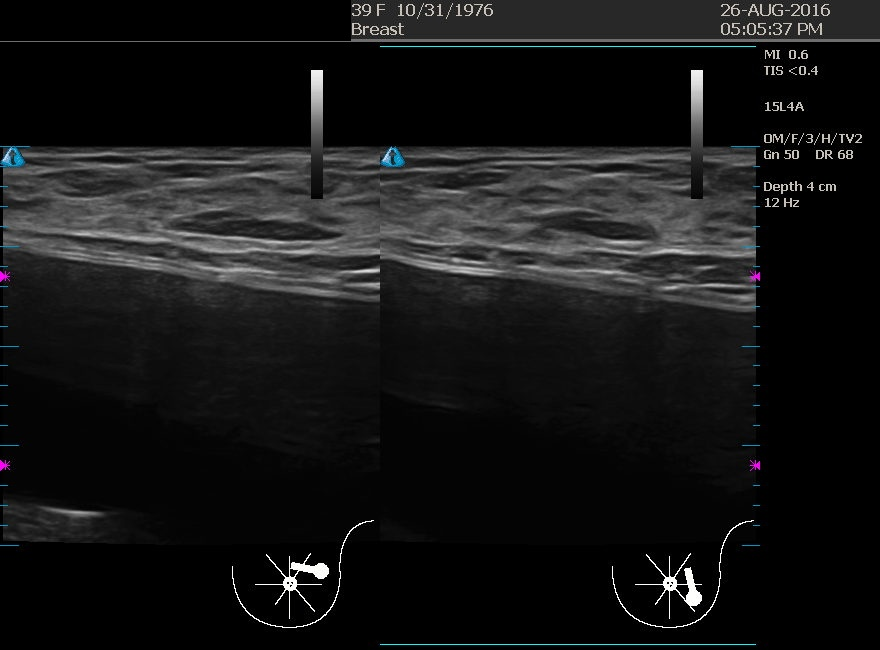BIRADS_3: (148, 201, 348, 401), (515, 202, 715, 402)
